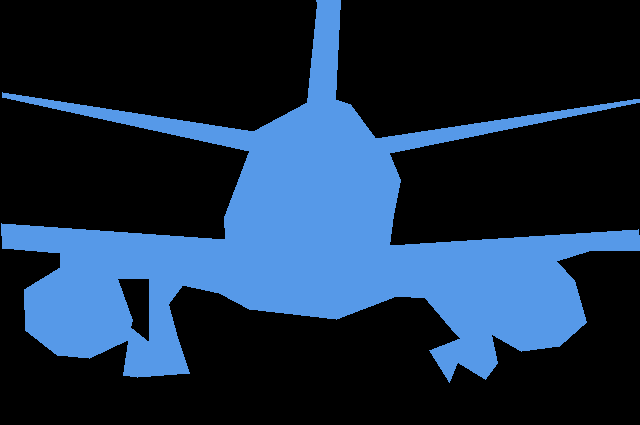Airplane: (1, 0, 640, 382)
